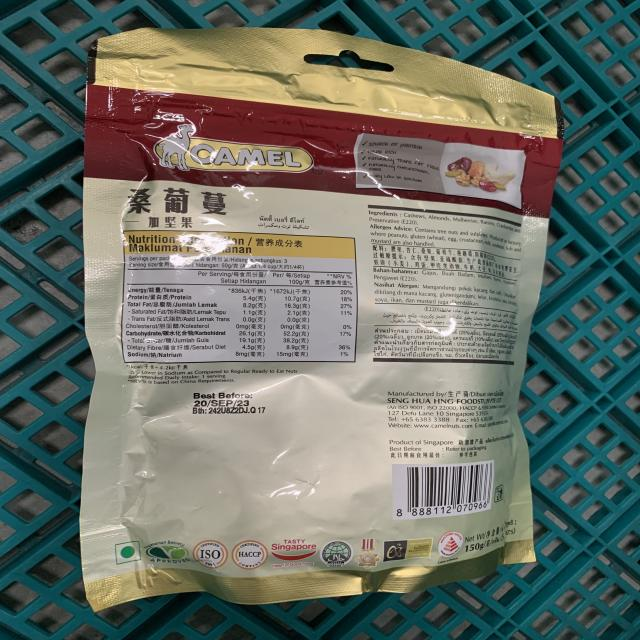object_name: (100, 37, 529, 577)
